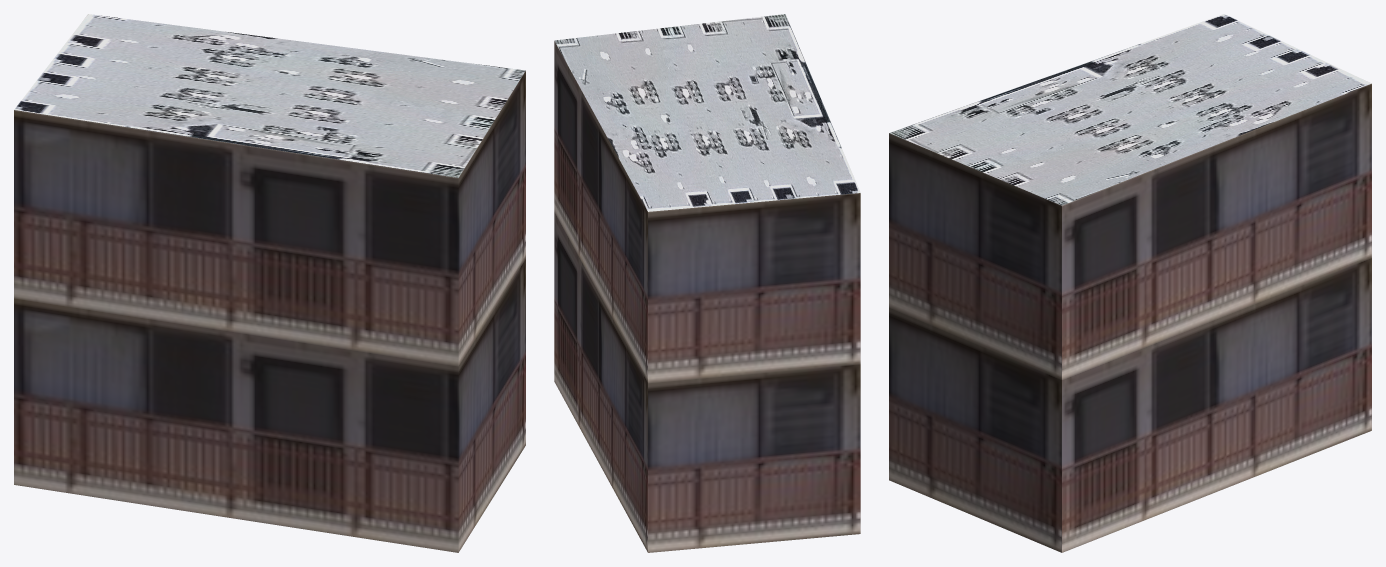
The model's file is ResTex__1468.fbx.
The picture shows the model from 3 angles, left to right: view 1: azimuth 30°, elevation 25°; view 2: azimuth 150°, elevation 25°; view 3: azimuth 270°, elevation 25°; orthographic projection. The views are drawn at different scales.
Parts seen in each view (by area): view 1: CityEngineMaterial_6_m, CityEngineMaterial_4_m; view 2: CityEngineMaterial_6_m, CityEngineMaterial_4_m; view 3: CityEngineMaterial_6_m, CityEngineMaterial_4_m.
Part boxes in pixels (x1,y1,x2,y2): CityEngineMaterial_6_m: [14, 71, 525, 552]; CityEngineMaterial_4_m: [14, 14, 525, 177]; CityEngineMaterial_6_m: [554, 41, 860, 552]; CityEngineMaterial_4_m: [554, 14, 860, 211]; CityEngineMaterial_6_m: [889, 83, 1371, 552]; CityEngineMaterial_4_m: [889, 14, 1371, 205].
Size of the model in its own units: 7.11 by 6 by 7.56.
Materials: 2 (2 with a texture image).
